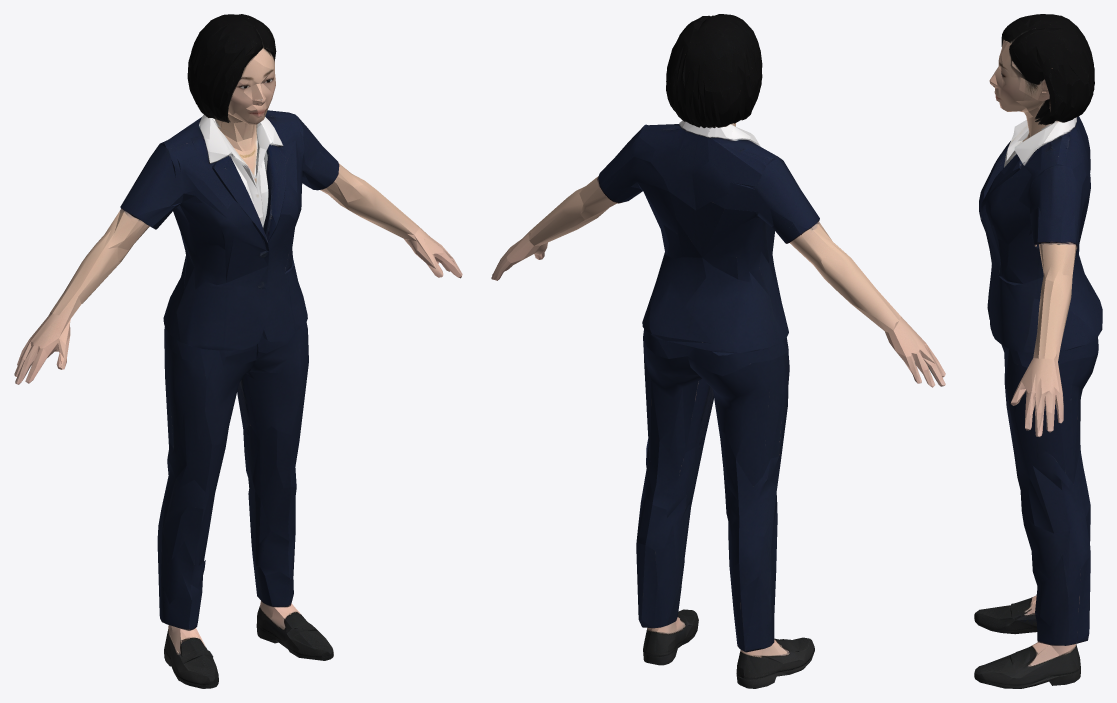
Rendered from image3d.glb.
The picture shows the model from 3 angles, left to right: view 1: azimuth 30°, elevation 25°; view 2: azimuth 150°, elevation 25°; view 3: azimuth 270°, elevation 25°; orthographic projection.
Size of the model in its own units: 1.4 by 1.9 by 0.3472.
Materials: 1 (1 with a texture image).
